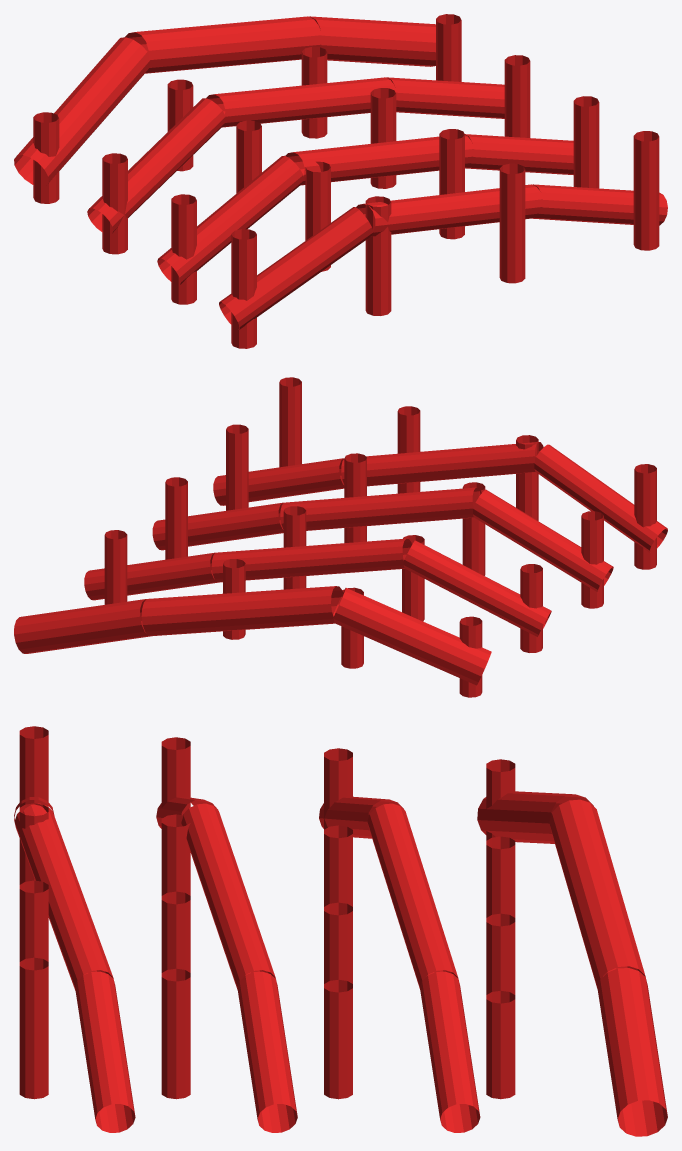
Rendered from 26_right_inlet_fences_x4.glb.
The picture shows the model from 3 angles, top to bottom: view 1: azimuth 30°, elevation 25°; view 2: azimuth 150°, elevation 25°; view 3: azimuth 270°, elevation 25°; orthographic projection. The views are drawn at different scales.
Parts seen in each view (by area): view 1: 26_right_inlet_fences_x4; view 2: 26_right_inlet_fences_x4; view 3: 26_right_inlet_fences_x4.
Boxes of the visible parts, left/top/right/bottom form: 26_right_inlet_fences_x4: left=14, top=14, right=667, bottom=348; 26_right_inlet_fences_x4: left=14, top=377, right=667, bottom=697; 26_right_inlet_fences_x4: left=14, top=726, right=667, bottom=1136.
Bounding box in the file's own units: 32.05 × 8.35 × 32.24.
